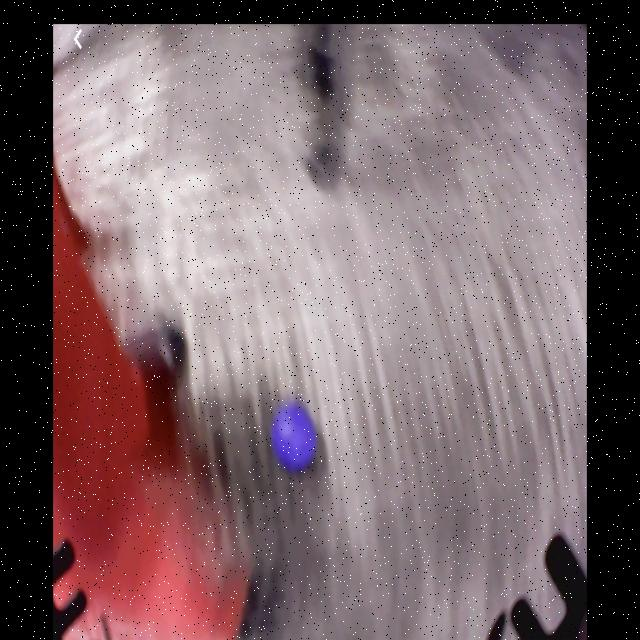ball: (275, 406, 318, 472)
